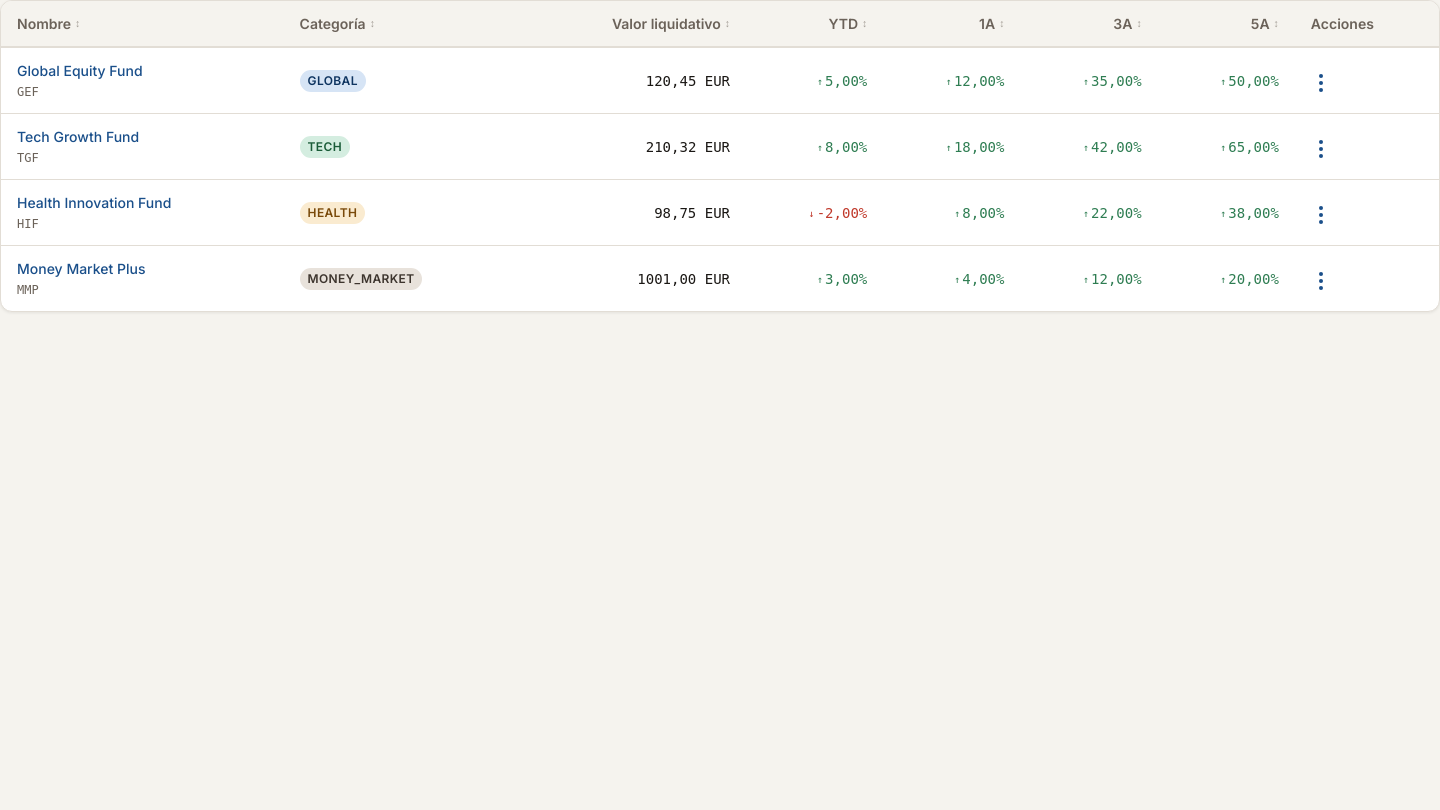
FundsTable › opens buy dialog when "Comprar" action is clicked
expect the text "Global Equity Fund" is shown: met, box [17,62,143,79]
What coordinates should you click on to do the following:
click the button named "acciones"
I would click on:
 (1321, 82)
Its box is [1311,66,1331,100].
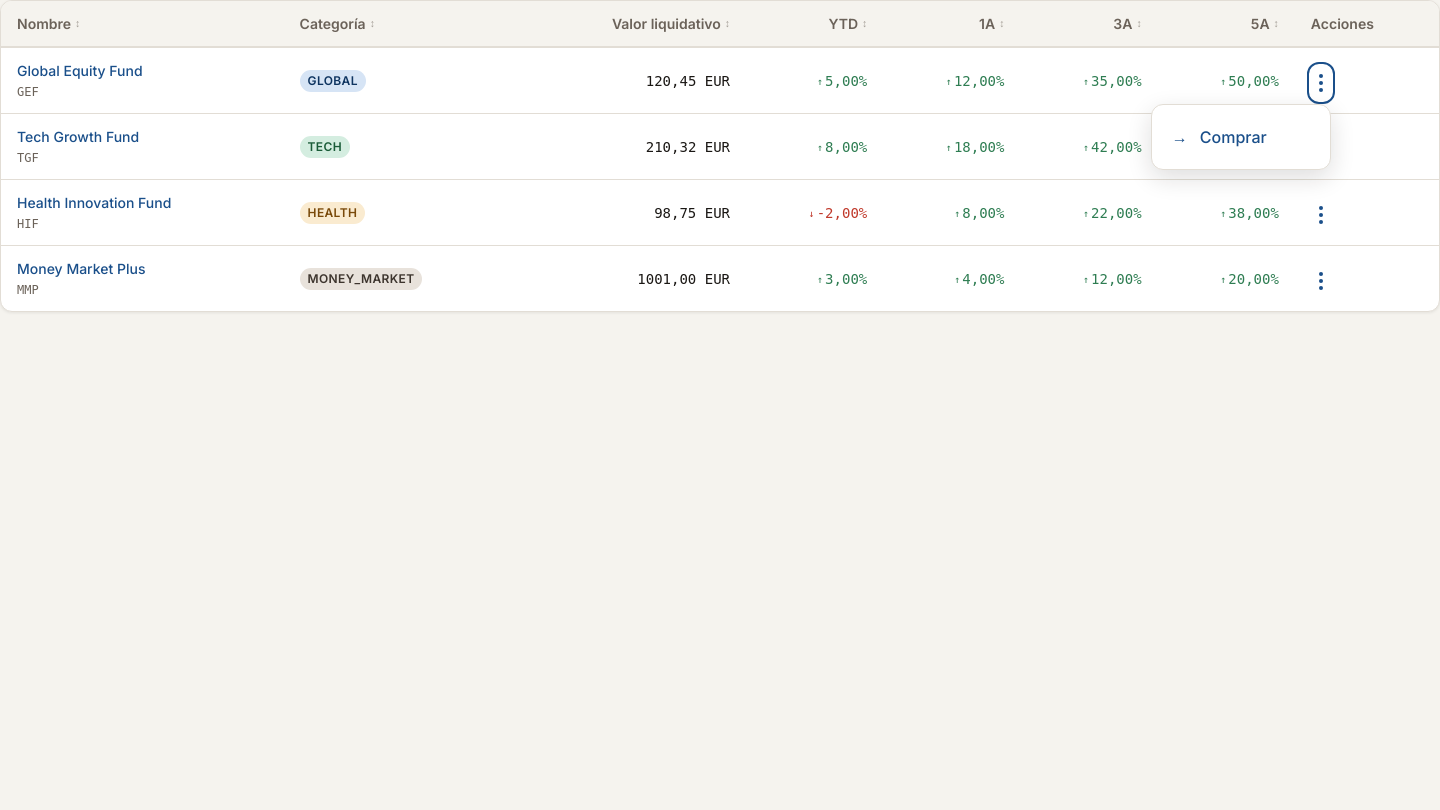
What coordinates should you click on to do the following:
click the menu item "→ Comprar"
I would click on:
 (1219, 136)
Its box is [1172,126,1267,146].
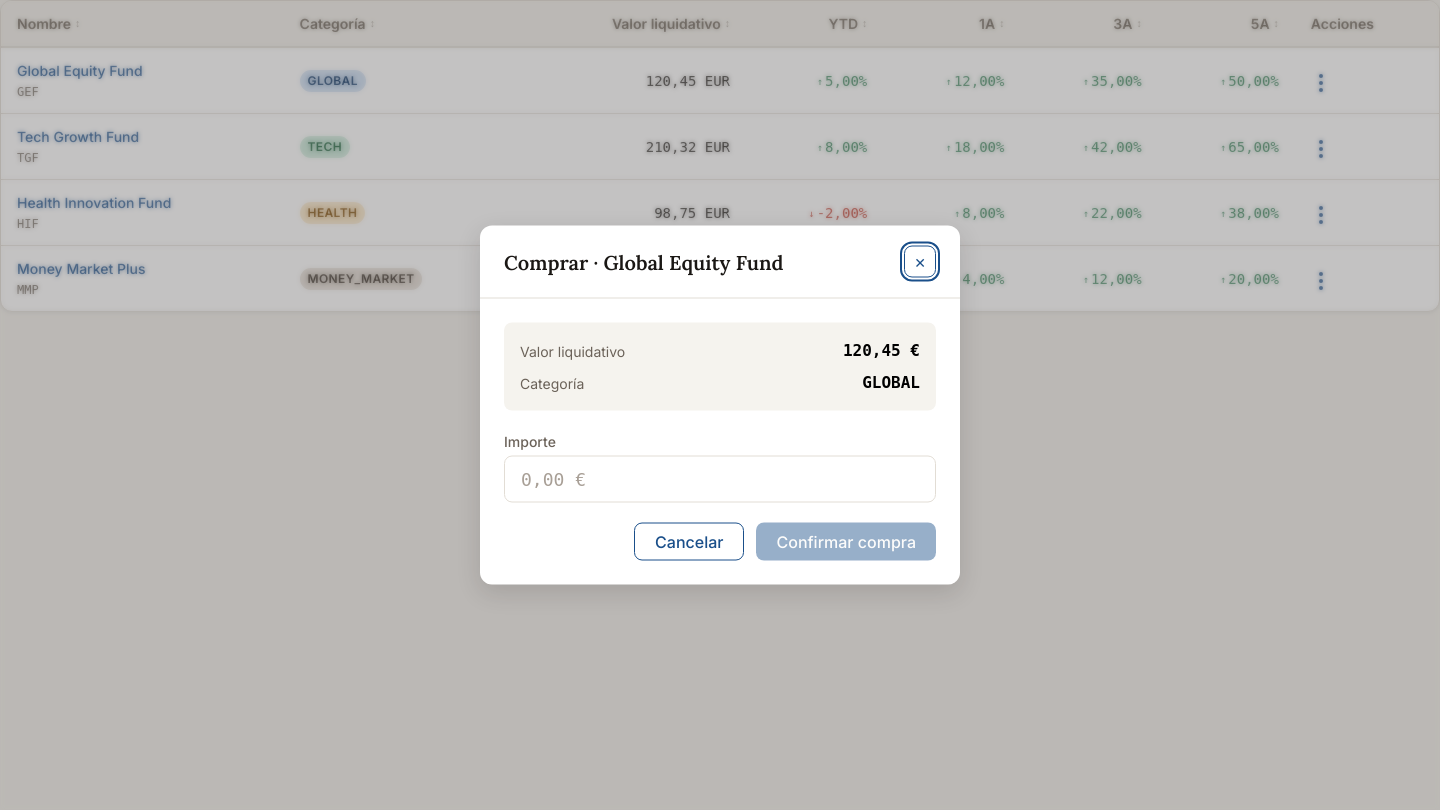
expect the dialog "Comprar" is shown: met, box [480,226,960,584]
